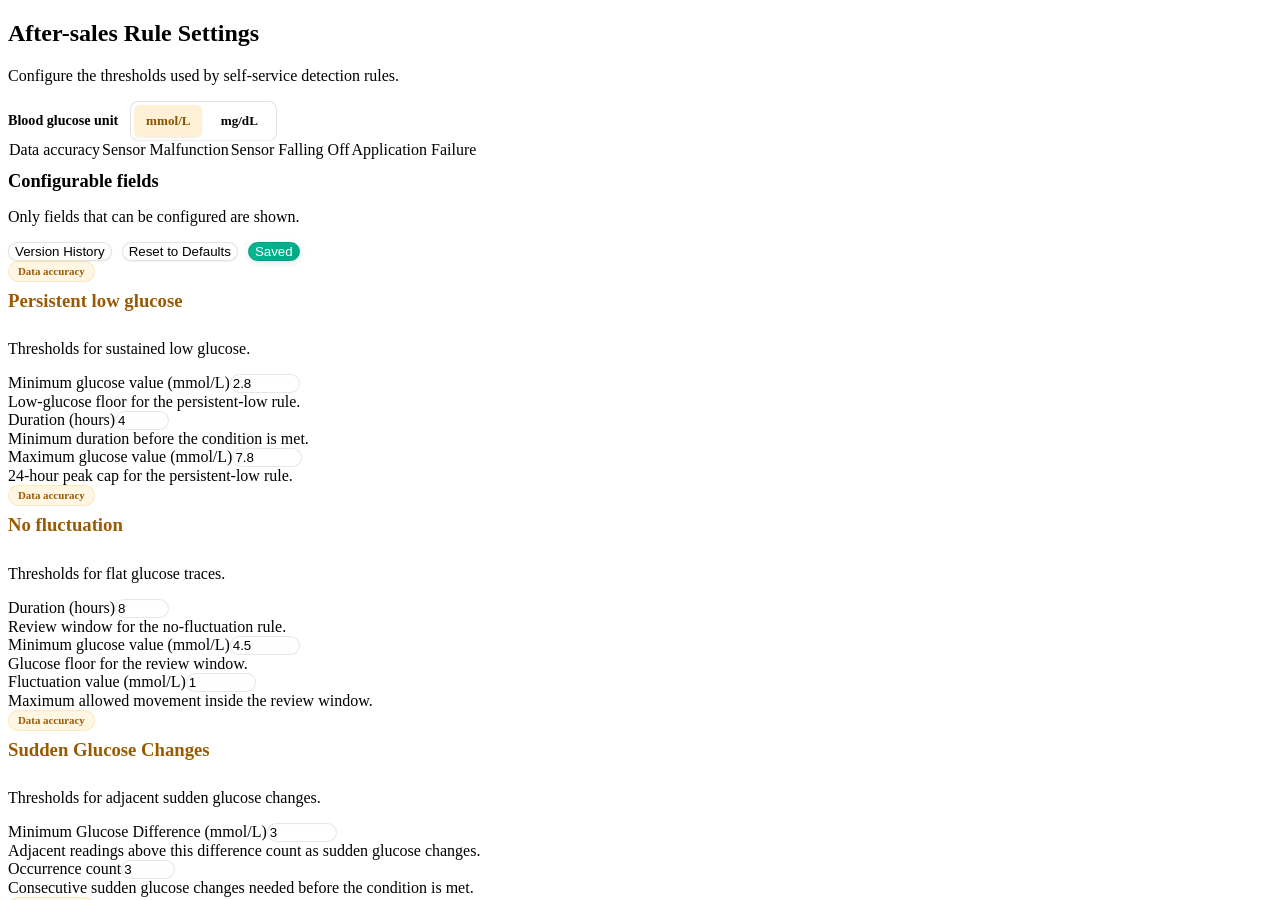
Test case: ThresholdsView › opens version history drawer and displays structure
Click the button with class "btn-history": point(60, 252) [8,242,112,261]
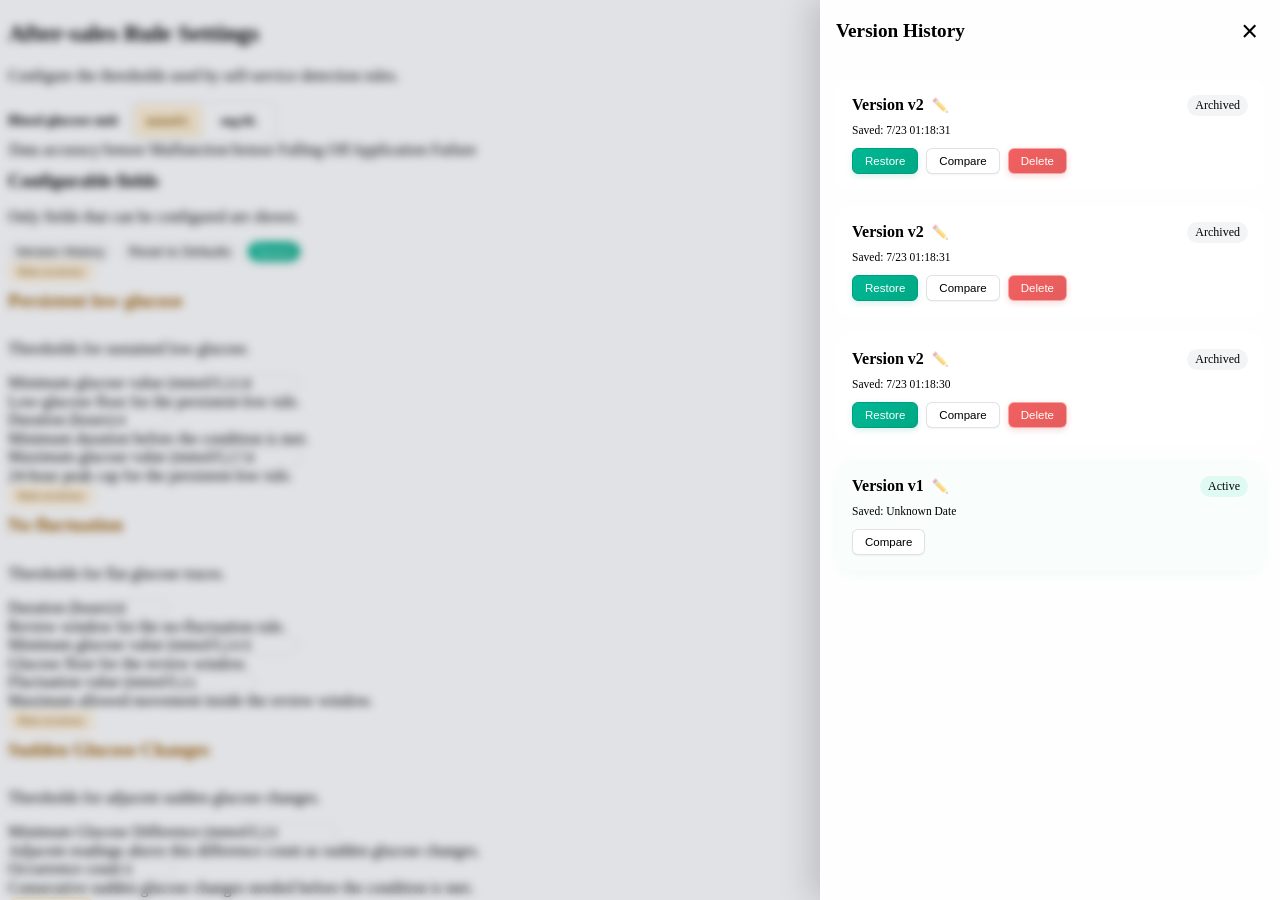
Now the element with class "drawer-overlay" is shown
Now the heading "Version History" is shown, box [836,20,965,42]
